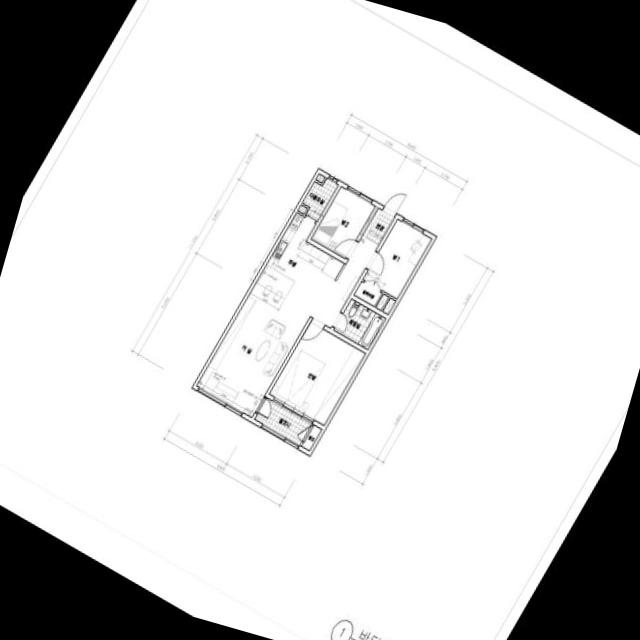background: (0, 0, 640, 640)
space_balconi: (254, 397, 311, 444)
space_bedroom: (268, 321, 364, 424), (362, 219, 430, 298), (310, 186, 374, 257), (353, 281, 381, 305)
space_front: (362, 207, 393, 244)
space_kitchen: (252, 212, 343, 305)
space_living_room: (196, 235, 378, 416)
space_multipurpose_space: (302, 178, 337, 220)
space_other: (301, 425, 320, 449), (382, 298, 394, 313), (375, 294, 387, 309), (315, 174, 324, 182), (297, 205, 306, 213)
space_toilet: (333, 298, 384, 348)
